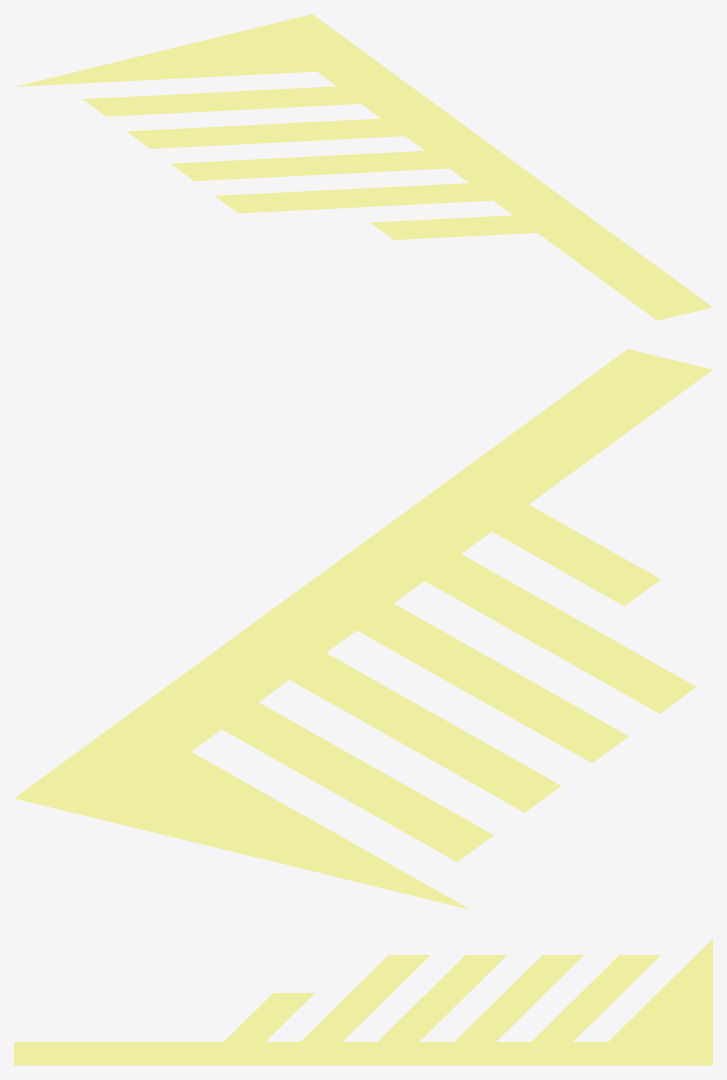
The model's file is 040shemi09250975kts.dae.
3 views of the same model, one above another, from view 1: azimuth 30°, elevation 25°; view 2: azimuth 150°, elevation 25°; view 3: azimuth 270°, elevation 25° (orthographic). The views are drawn at different scales.
Visible parts, largest first — view 1: Plane; view 2: Plane; view 3: Plane.
Boxes of the visible parts, x1,y1,x2,y2 form: Plane: (17, 14, 711, 320); Plane: (14, 349, 711, 909); Plane: (14, 939, 712, 1065).
Size of the model in its own units: 43 by 100 by 0.
